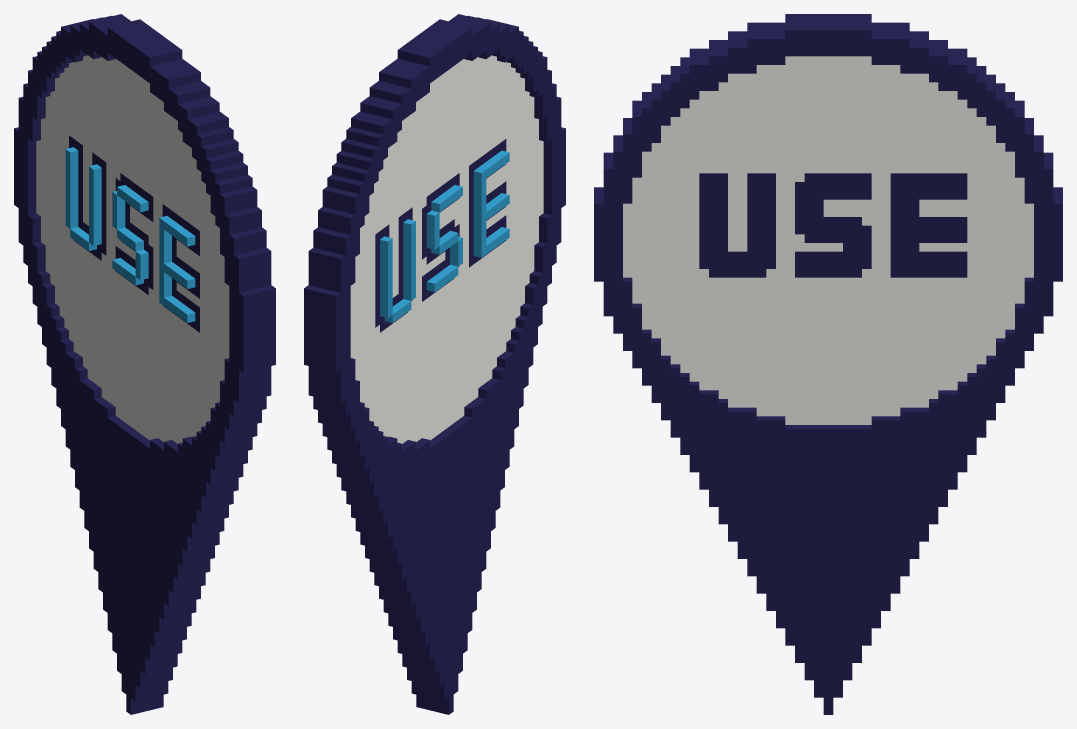
File: useIcon2.obj
The picture shows the model from 3 angles, left to right: view 1: azimuth 30°, elevation 25°; view 2: azimuth 150°, elevation 25°; view 3: azimuth 270°, elevation 25°; orthographic projection. The views are drawn at different scales.
Bounding box in the file's own units: 4 × 79 × 49.
Materials: 1 (1 with a texture image).
